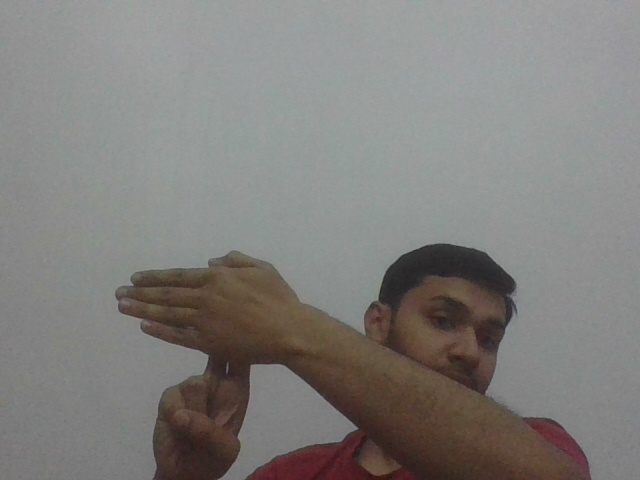N: (115, 248, 284, 388)
